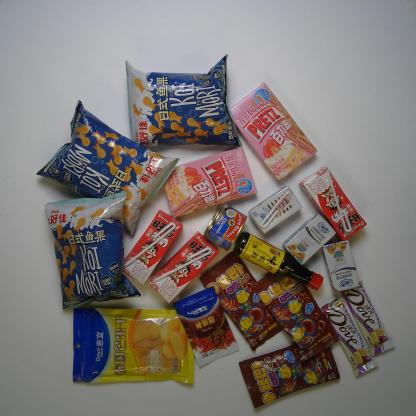Candy: (252, 259, 340, 362), (200, 250, 287, 350), (238, 332, 341, 408)
Canned Food: (202, 202, 247, 251)
Chocolate: (320, 296, 379, 378), (337, 277, 395, 357)
Dessert: (226, 82, 317, 182), (156, 146, 256, 218)
Dried Fruit: (71, 307, 195, 386)
Milk: (299, 167, 367, 242), (150, 231, 218, 303), (121, 210, 182, 285), (282, 211, 337, 264), (250, 187, 304, 235), (321, 240, 361, 292)
Puffed Food: (36, 99, 180, 236), (124, 54, 244, 159), (44, 192, 141, 309)
Seasoner: (233, 232, 324, 292), (174, 286, 238, 368)
